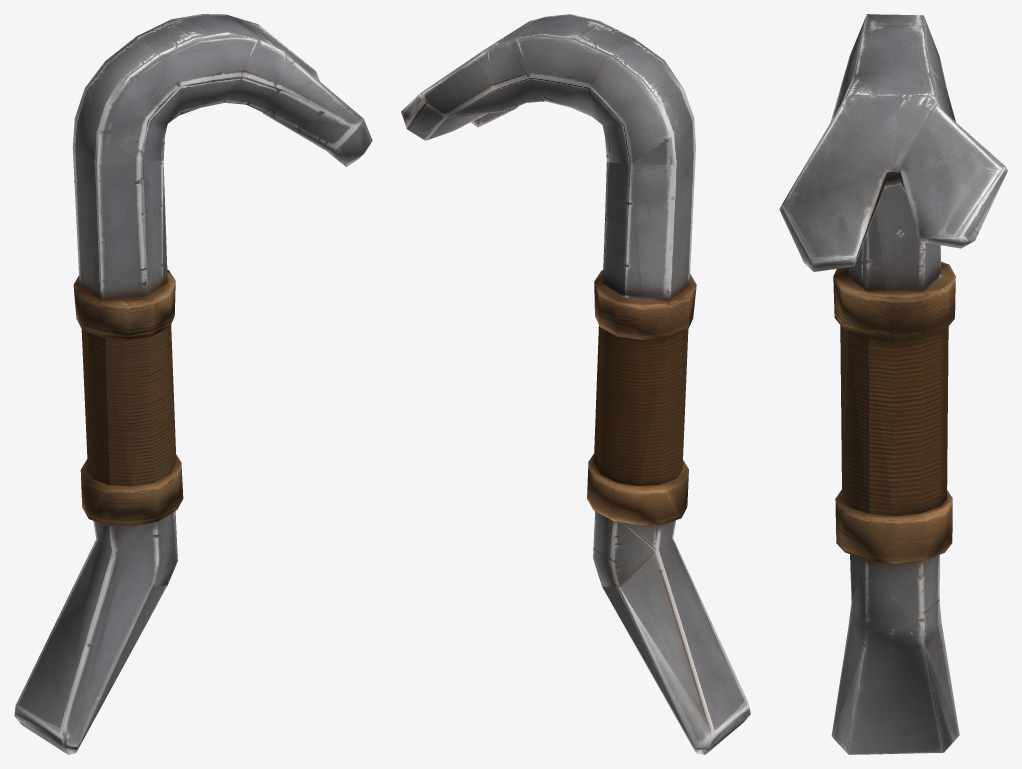
The model's file is Meshy_AI_Rusty_C_clamp_0716125556_texture.fbx.
3 renders of one model, left to right at view 1: azimuth 30°, elevation 25°; view 2: azimuth 150°, elevation 25°; view 3: azimuth 270°, elevation 25°, orthographic. The views are drawn at different scales.
Parts seen in each view (by area): view 1: mesh_node; view 2: mesh_node; view 3: mesh_node.
Part boxes in pixels (bbox=[...]): mesh_node: bbox=[14, 14, 372, 754]; mesh_node: bbox=[401, 14, 750, 754]; mesh_node: bbox=[779, 14, 1007, 754].
Size of the model in its own units: 47.27 by 99.8 by 25.78.
1 material, 1 textured.
